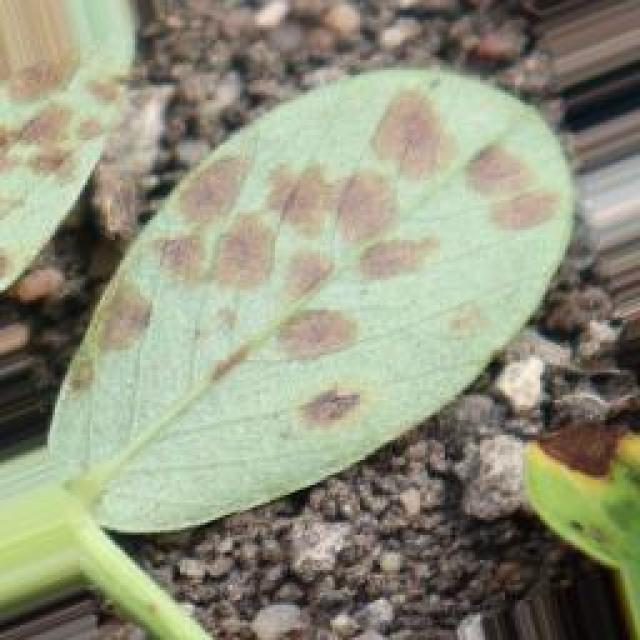Whitefly: (0, 29, 557, 486)
